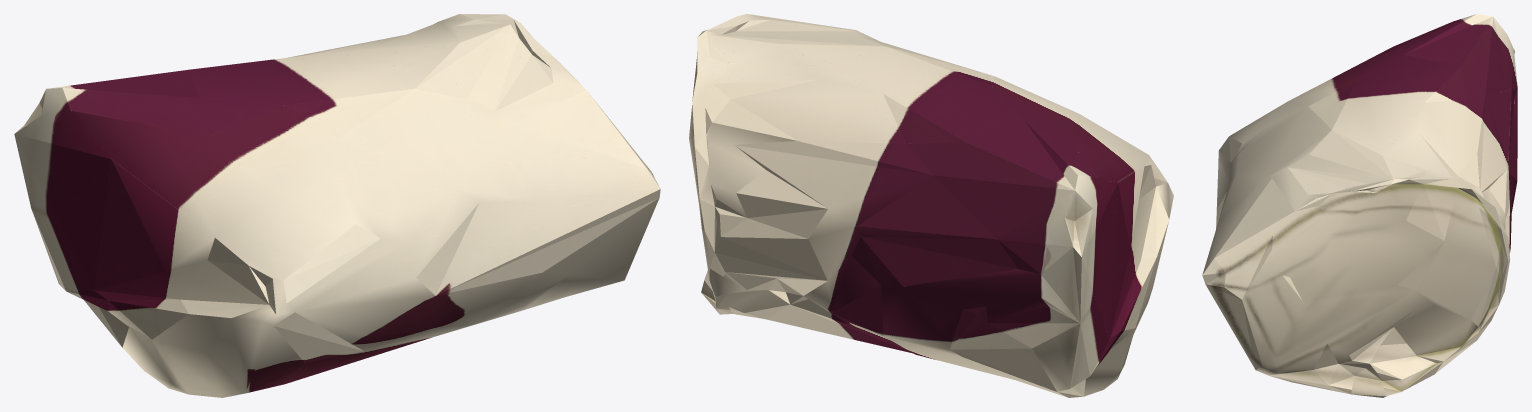
The model's file is IT_Trash_CrumpledPaperCup.fbx.
The picture shows the model from 3 angles, left to right: view 1: azimuth 30°, elevation 25°; view 2: azimuth 150°, elevation 25°; view 3: azimuth 270°, elevation 25°; orthographic projection. The views are drawn at different scales.
Visible parts, largest first — view 1: Mesh_0; view 2: Mesh_0; view 3: Mesh_0.
Part boxes in pixels (x1=…): Mesh_0: x1=14, y1=14, x2=660, y2=397; Mesh_0: x1=689, y1=14, x2=1173, y2=397; Mesh_0: x1=1202, y1=14, x2=1517, y2=397.
Size of the model in its own units: 190 by 99.81 by 127.
Materials: 1 (1 with a texture image).
